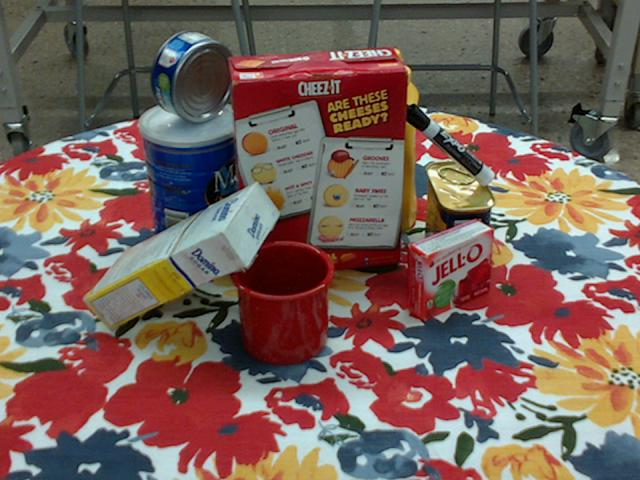cracker_box: (226, 49, 408, 278)
gelatin_box: (406, 218, 494, 321)
large_marker: (402, 104, 494, 185)
master_chef_can: (140, 100, 245, 263)
mug: (229, 239, 335, 364)
mustard_bottle: (363, 49, 418, 232)
potted_meat_can: (424, 161, 495, 277)
sugar_box: (80, 182, 279, 331)
tomato_soup_can: (281, 106, 342, 212)
tuna_fish_can: (150, 30, 234, 122)
